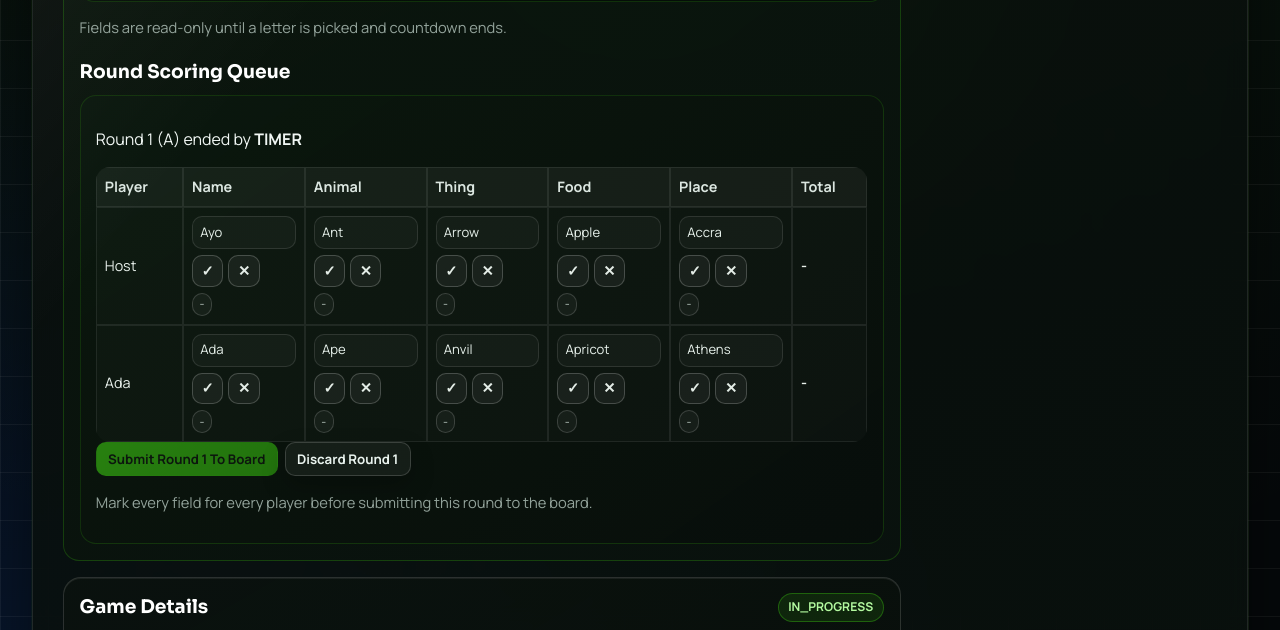
it: functional: phase 2 round flow › lets host mark then publish a round to the left leaderboard
(page scrolled)
Expected: the heading "Round Scoring Queue" is shown, [80,60,290,83]
What coordinates should you click on to do the following:
click the button named "mark-name-correct-host-round-1"
I would click on:
 (208, 271)
Its box is [192,255,223,286].
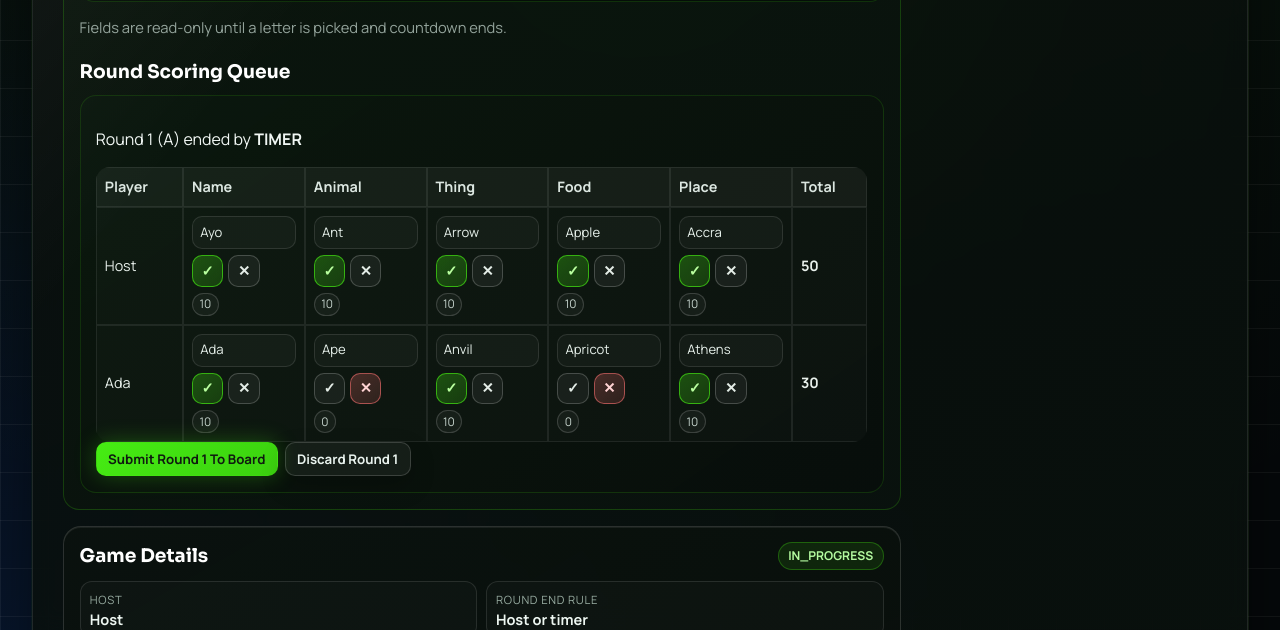
What coordinates should you click on to do the following:
click the button with aria-label "publish-round-1"
I would click on:
 (187, 459)
Its box is [96,442,278,476].
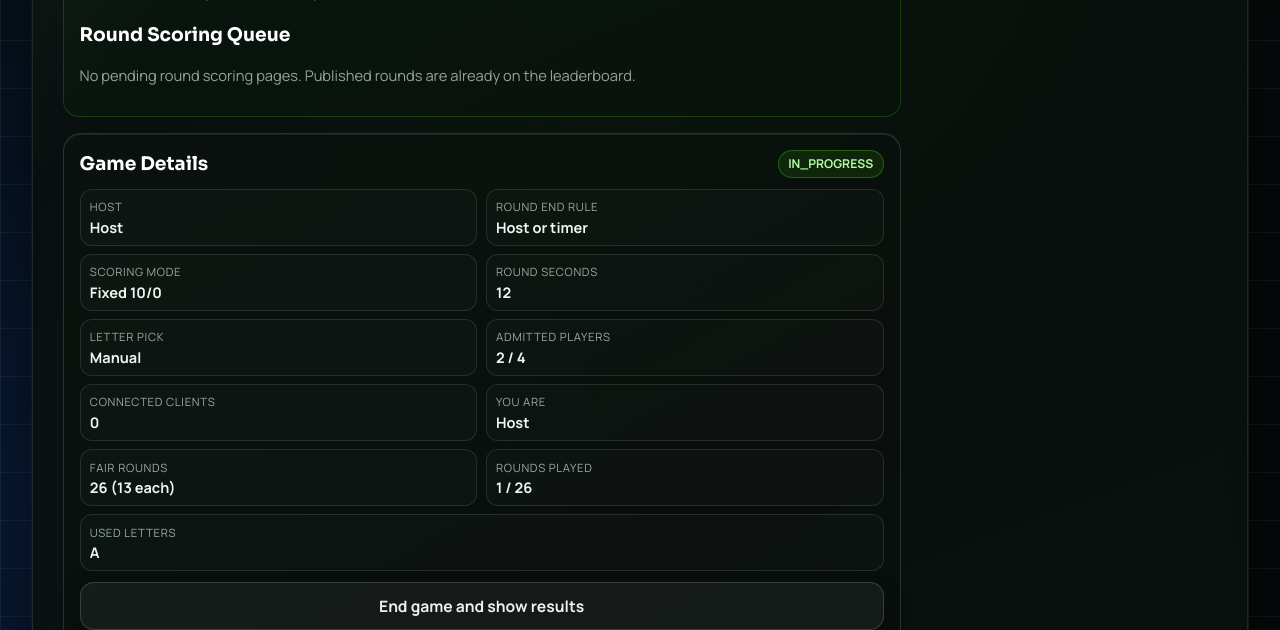
Expected: the text "No pending round scoring pages" is shown, [80,65,636,85]
